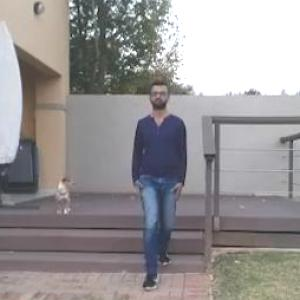follow: (141, 79, 189, 272)
